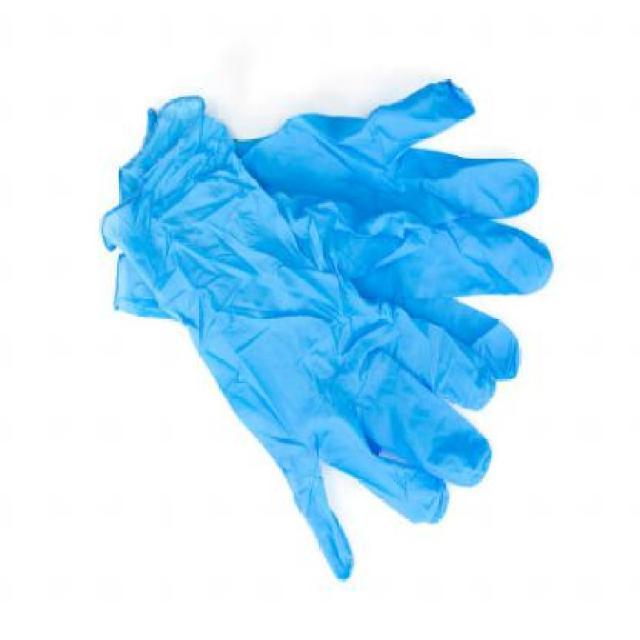gloved_hand: (88, 78, 558, 584)
